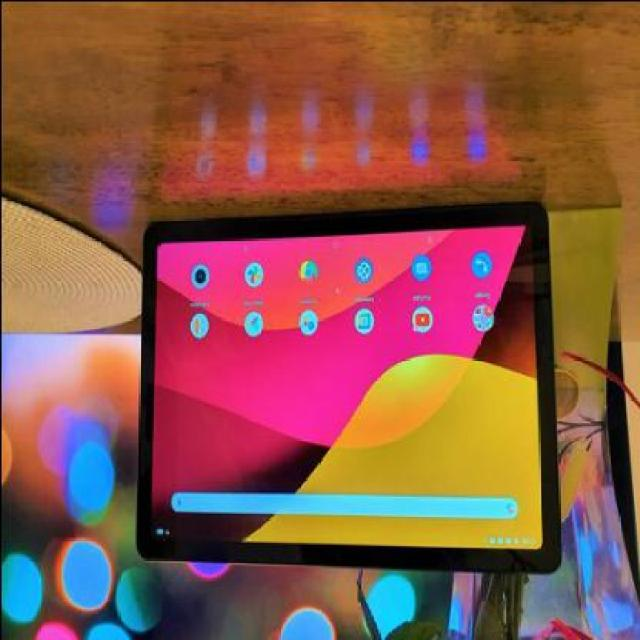tablet: (133, 188, 560, 586)
